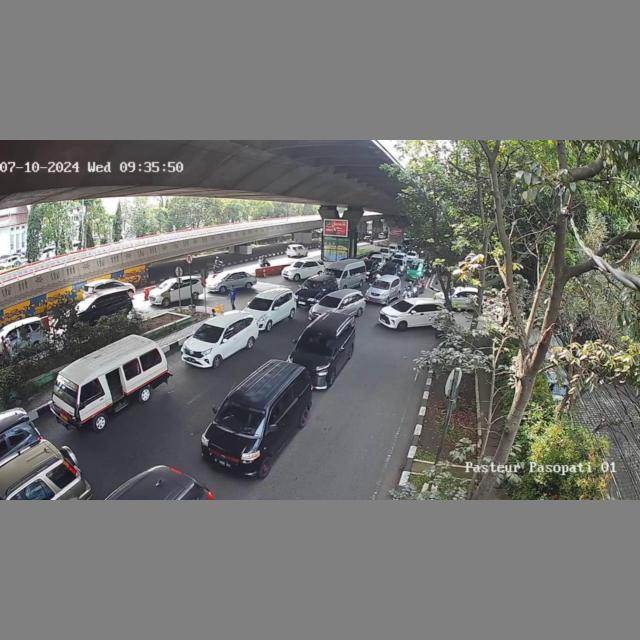windshield: (214, 398, 268, 437), (296, 330, 339, 357), (53, 372, 80, 408), (195, 324, 223, 342), (248, 296, 273, 311), (391, 300, 413, 312), (319, 296, 341, 307), (302, 281, 322, 291), (372, 280, 390, 289)
